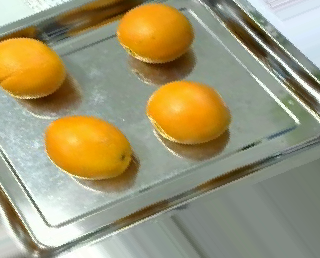Orange: (43, 114, 132, 179), (146, 79, 232, 145), (116, 2, 195, 63), (1, 37, 67, 98)
